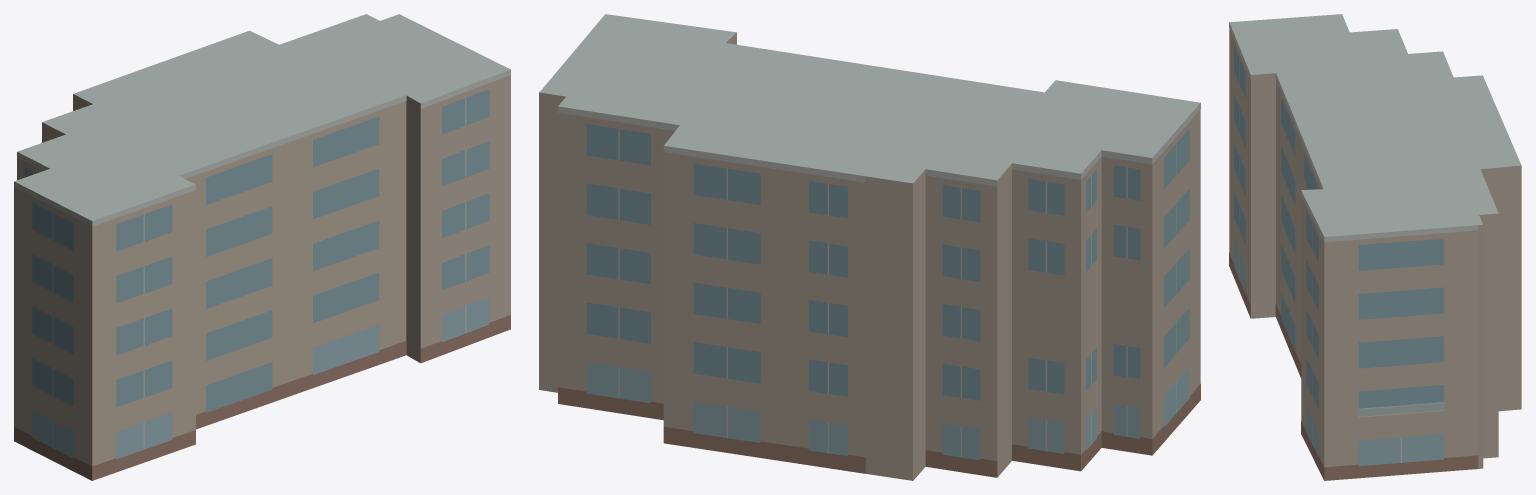
Rendered from survey-upis-32776602.glb.
3 renders of one model, left to right at view 1: azimuth 30°, elevation 25°; view 2: azimuth 150°, elevation 25°; view 3: azimuth 270°, elevation 25°, orthographic. The views are drawn at different scales.
Parts seen in each view (by area): view 1: survey-upis-32776602.tmp; view 2: survey-upis-32776602.tmp; view 3: survey-upis-32776602.tmp.
Part boxes in pixels (box(x1,y1,x2,y2)): survey-upis-32776602.tmp: box(14, 14, 510, 480); survey-upis-32776602.tmp: box(539, 14, 1200, 480); survey-upis-32776602.tmp: box(1229, 14, 1521, 480).
Size of the model in its own units: 22.38 by 11.4 by 12.4.
